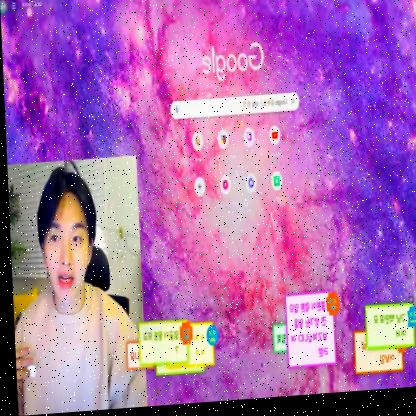streamer: (6, 157, 145, 416)
